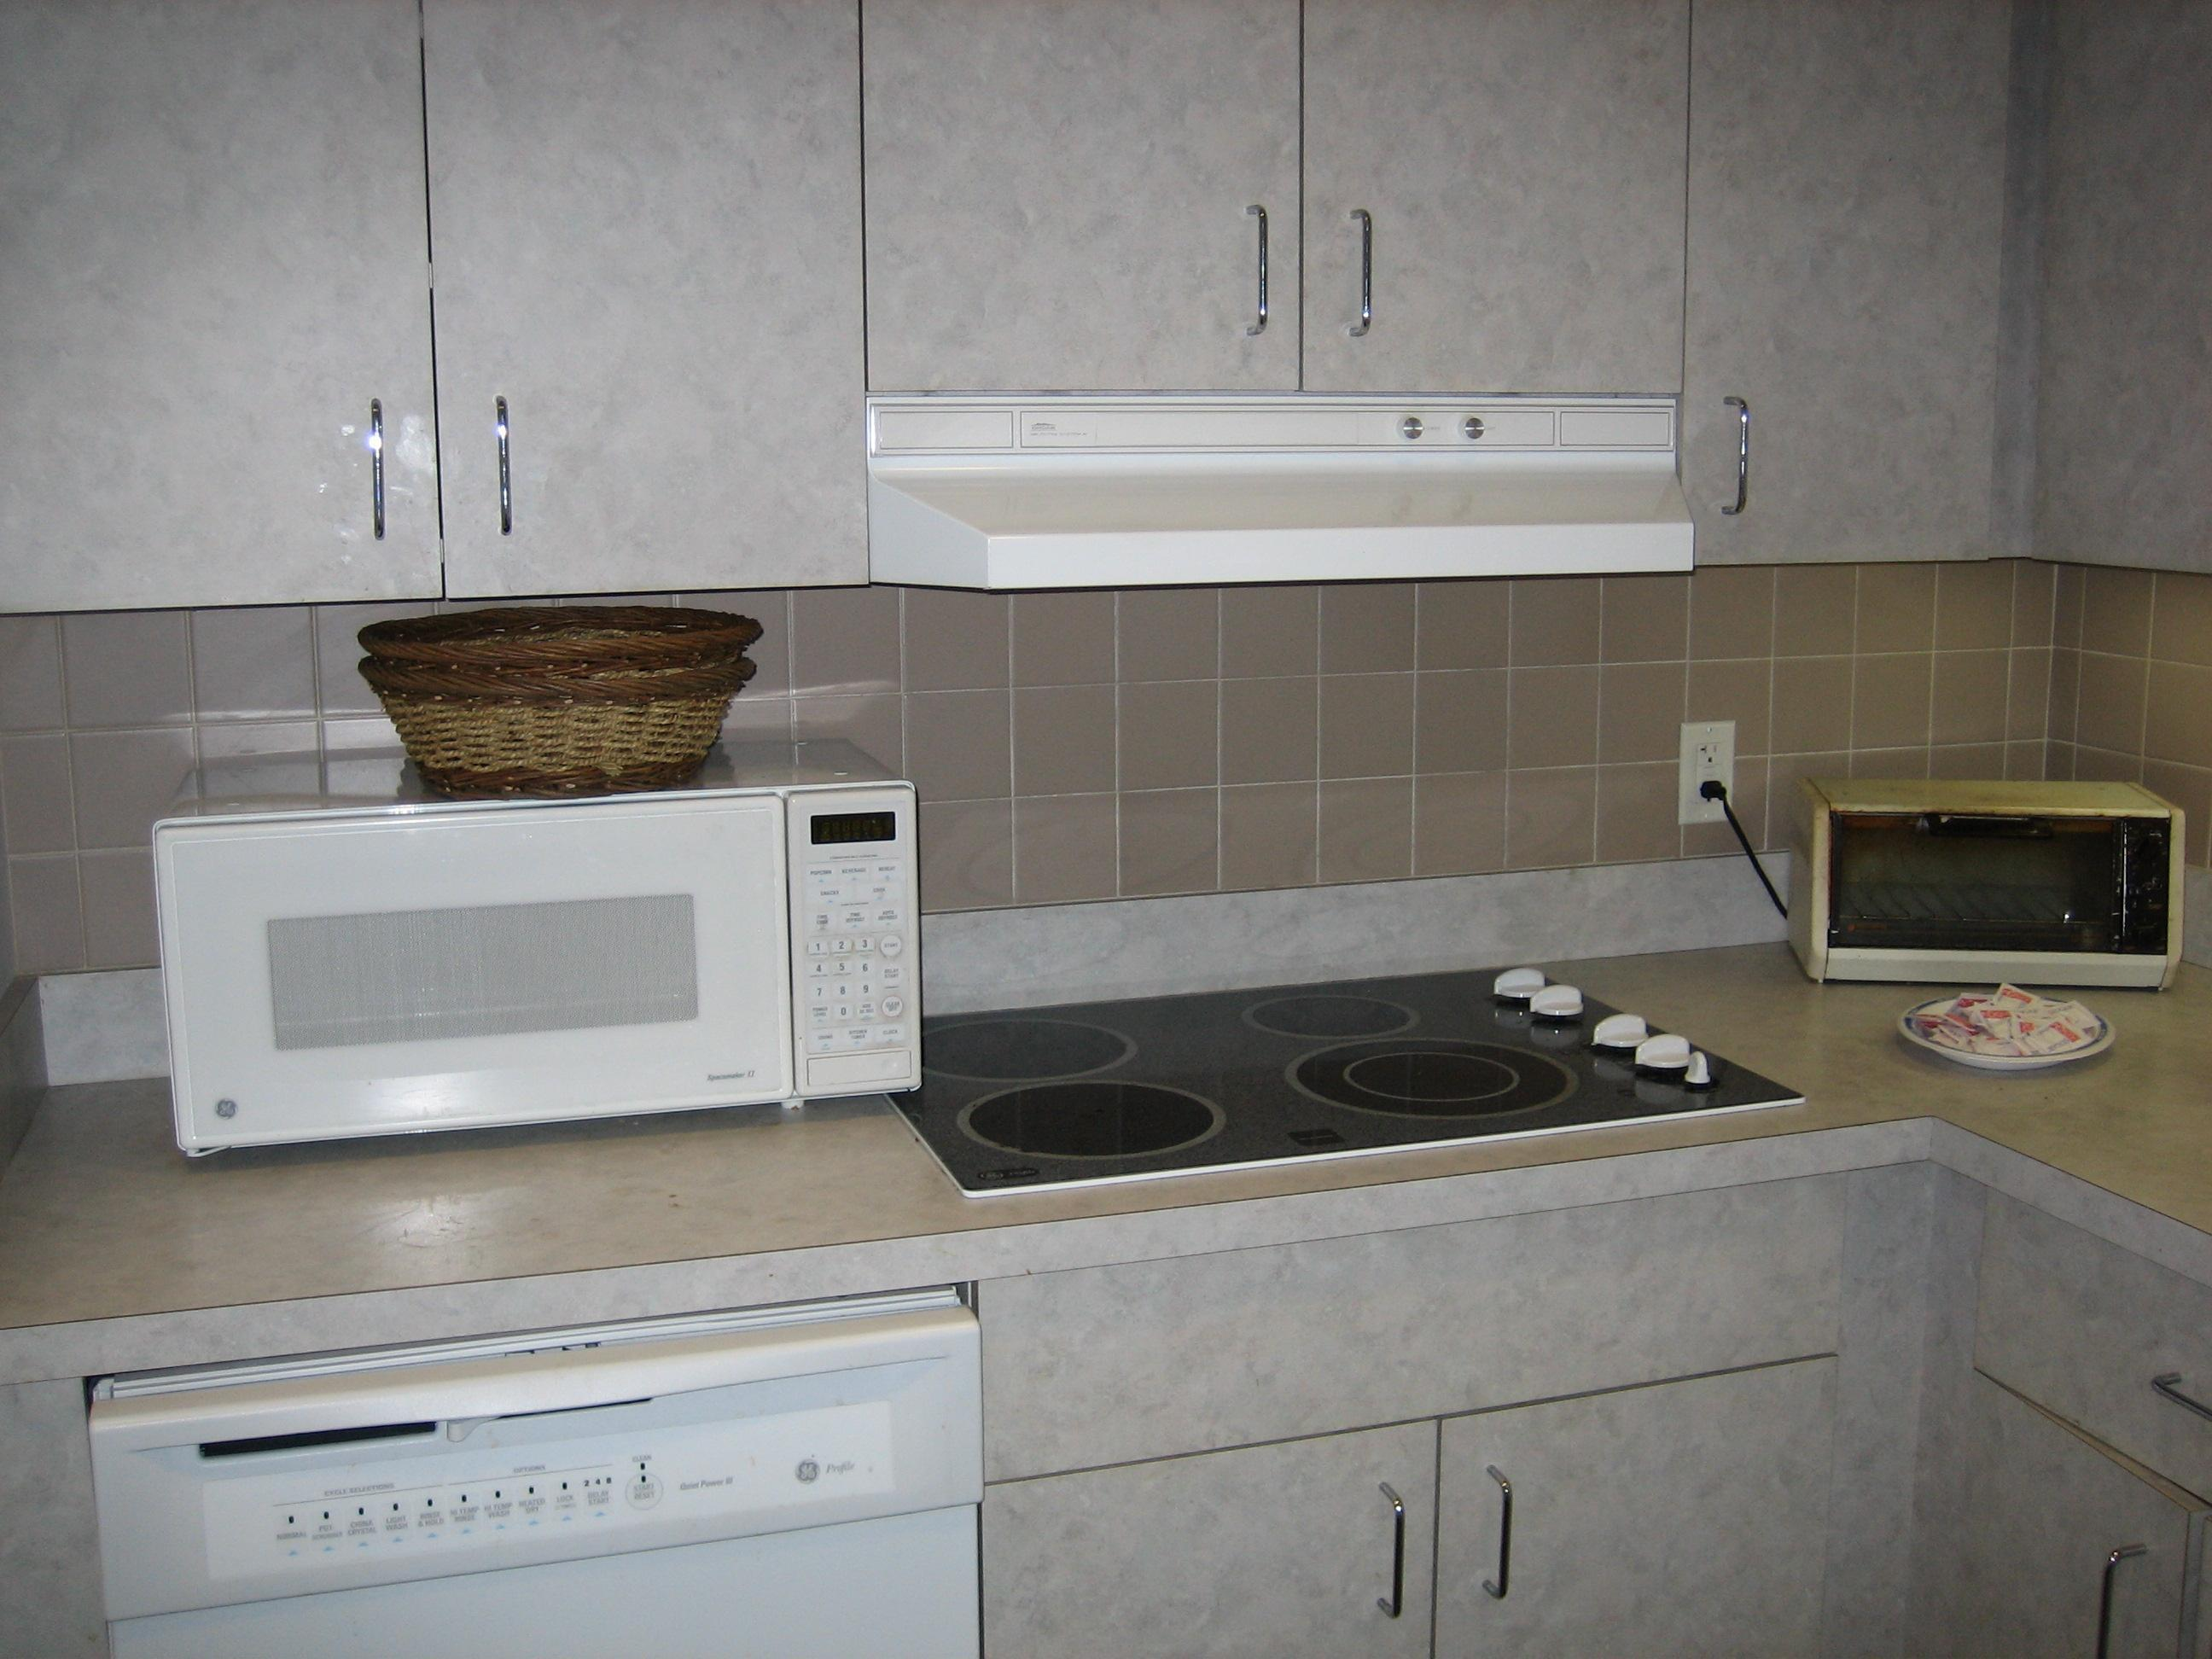Electrodomestico: (94, 1272, 975, 1649), (134, 805, 914, 1136), (925, 988, 1822, 1188)
